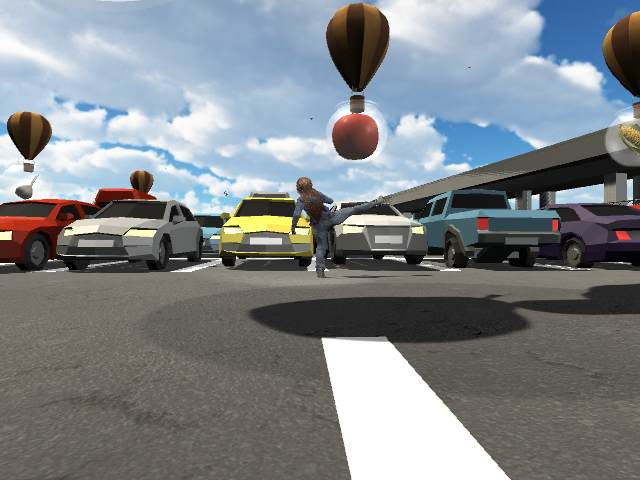turn_right: (293, 176, 390, 280)
